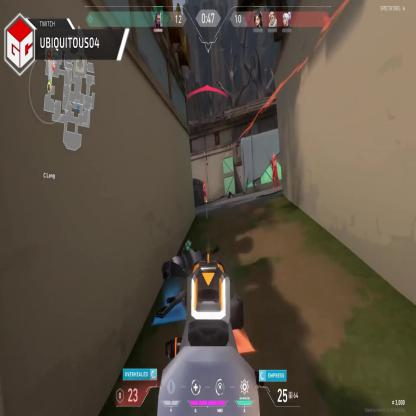enemy: (270, 154, 280, 190), (202, 180, 207, 202)
enemy_head: (272, 154, 276, 160), (202, 180, 205, 184)
